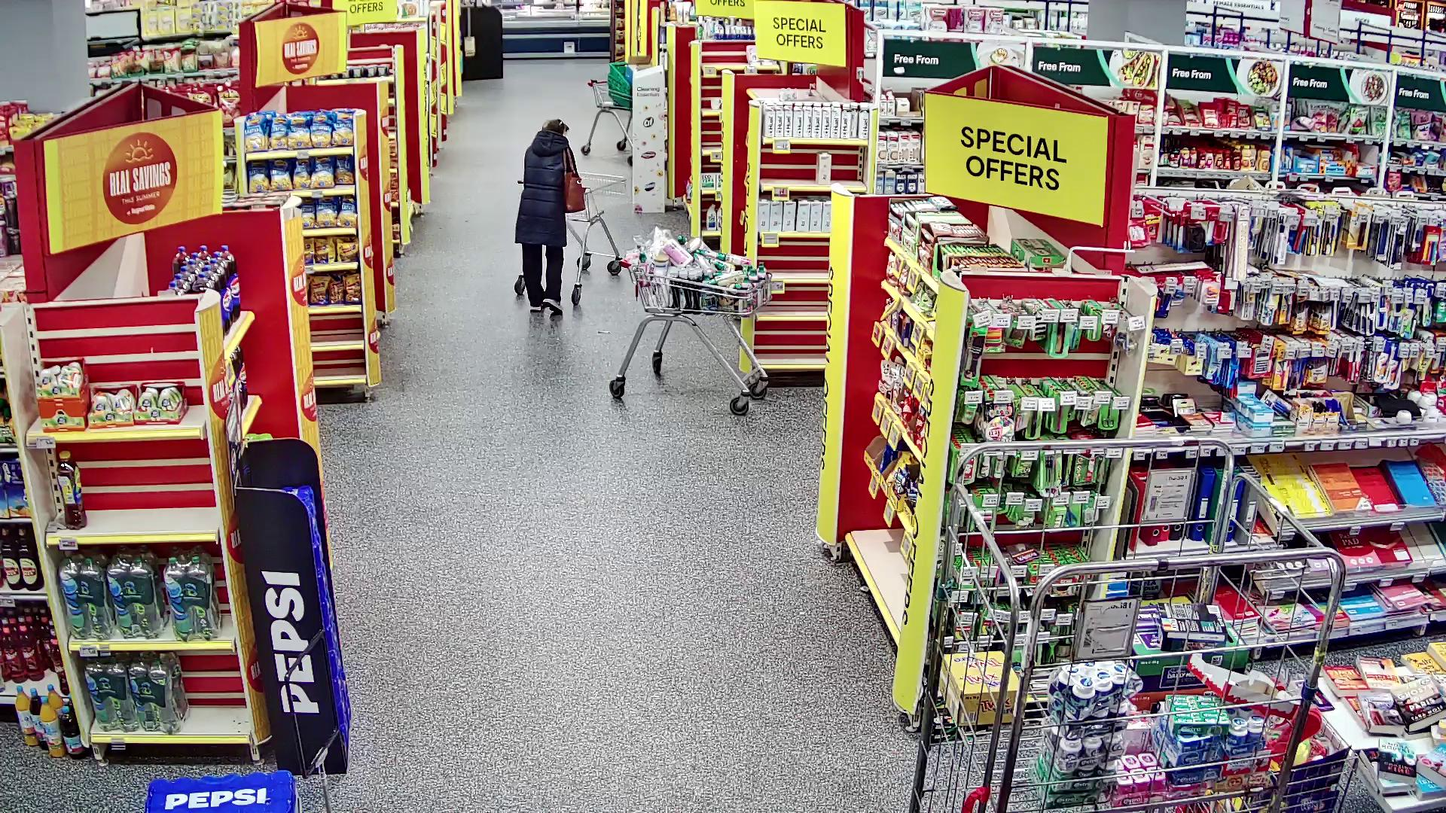backpack-or-handbag: (564, 172, 585, 214)
empty-trolly: (513, 174, 627, 305)
person: (514, 119, 577, 316)
person-with-basket-trolly-and-backpack-handbag: (513, 119, 628, 315)
